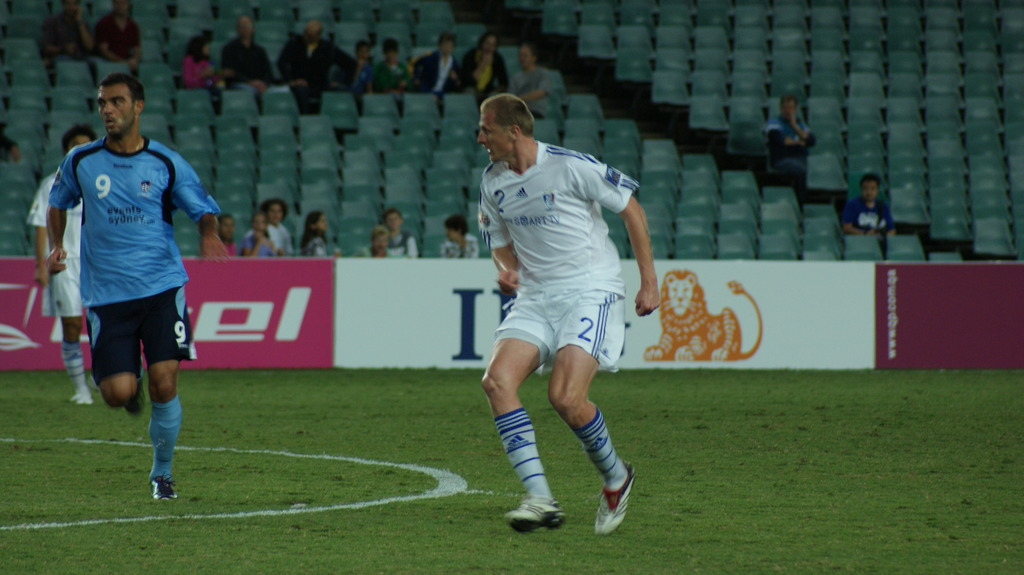Footwear: (593, 459, 639, 537), (512, 471, 567, 534), (125, 355, 147, 421), (148, 469, 181, 502), (70, 386, 94, 409)
